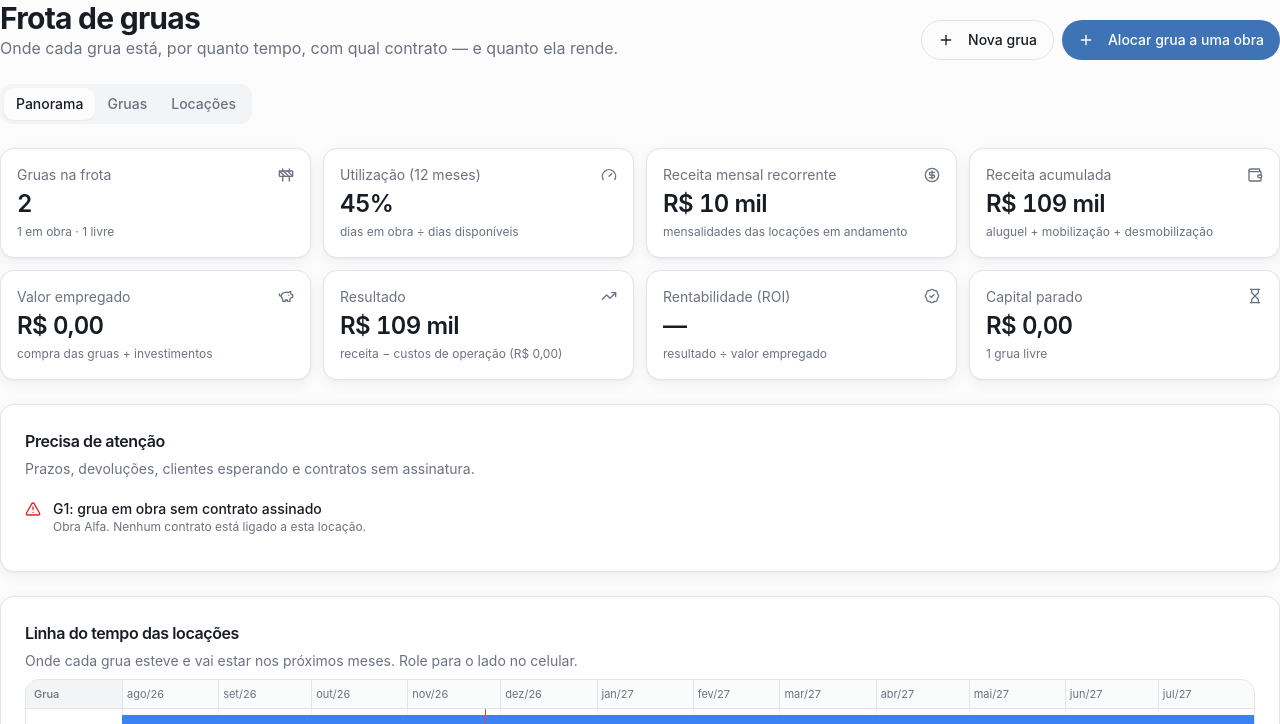
Test: página Frota › botões de ação: nova grua e alocar grua abrem os formulários
Click the button "Alocar grua a uma obra". click: coordinates (1171, 40)
box: left=1062, top=20, right=1279, bottom=60
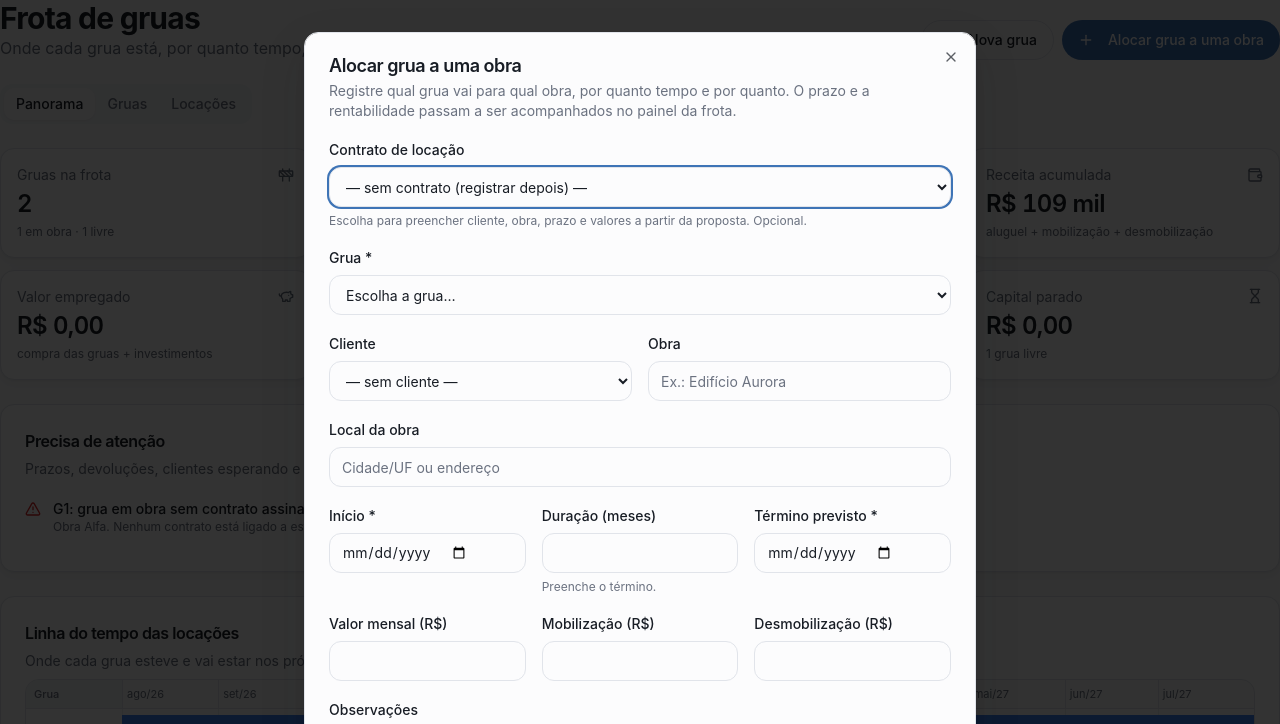
Check: the heading "Alocar grua a uma obra" is shown, box left=329, top=55, right=521, bottom=76
